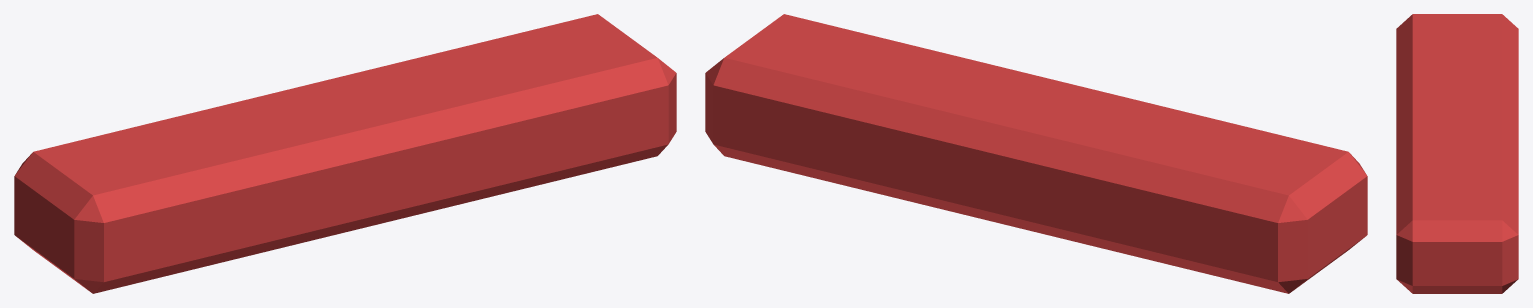
Rendered from road.glb.
The picture shows the model from 3 angles, left to right: view 1: azimuth 30°, elevation 25°; view 2: azimuth 150°, elevation 25°; view 3: azimuth 270°, elevation 25°; orthographic projection. The views are drawn at different scales.
Visible parts, largest first — view 1: road; view 2: road; view 3: road.
Boxes of the visible parts, x1,y1,x2,y2 form: road: (14, 14, 676, 293); road: (705, 14, 1367, 293); road: (1396, 14, 1518, 293).
Size of the model in its own units: 0.64 by 0.1 by 0.15.
